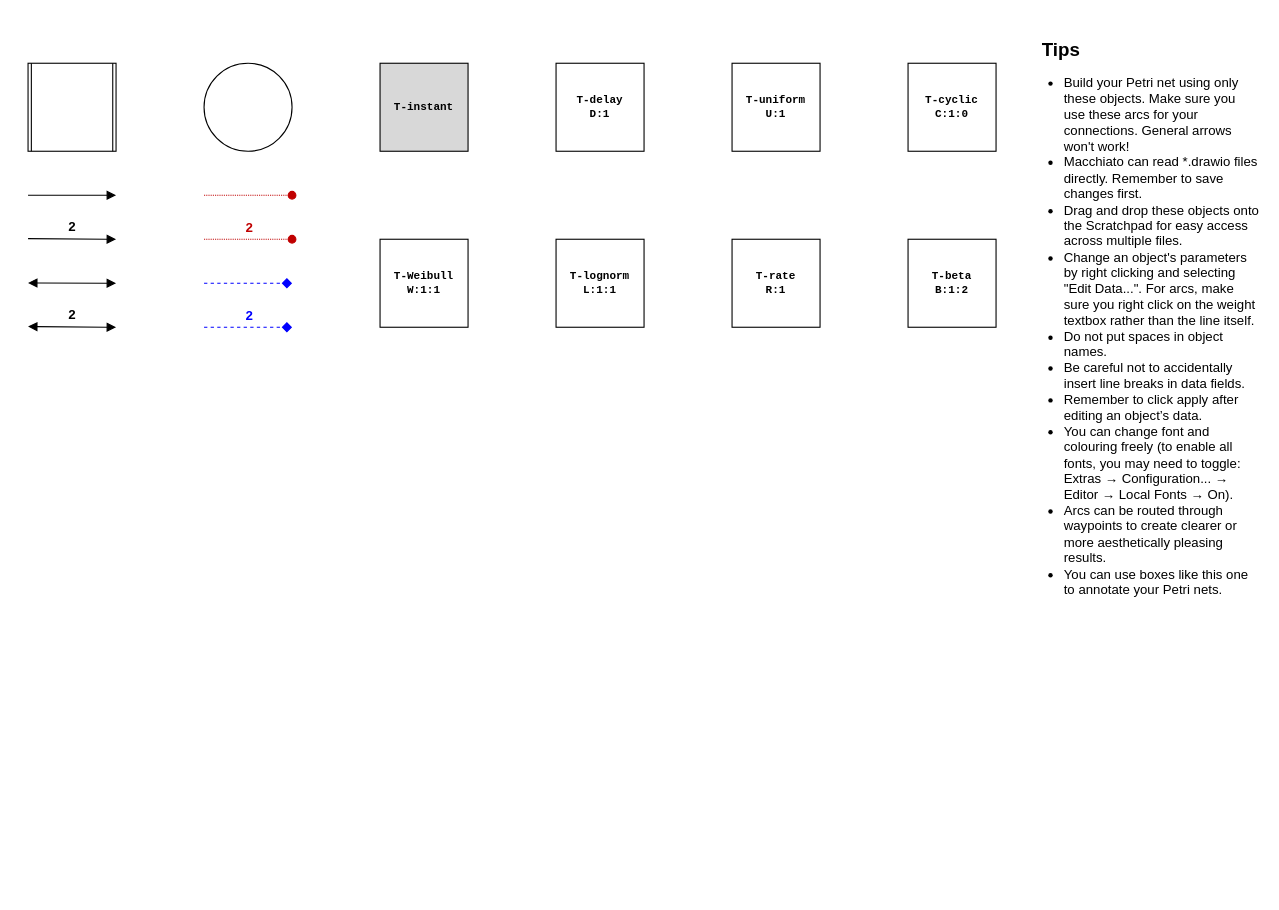
This 1279x910 diagram has some shape labels left out. Here are the shapes that lost their labels. From the top down, the centre of each, then its label:
At [71,106]: "Name: PetriNet units: hrs maxClock: 1E6 maxSteps: 1E12 simsFactor: 1.5E3".
At [247,106]: "P1 0".
